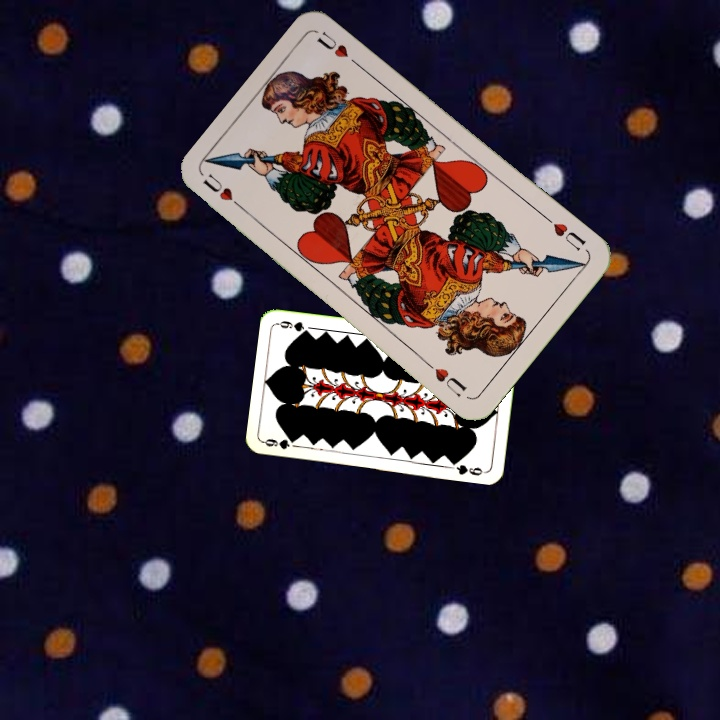G9: (260, 434, 298, 452)
HU: (199, 169, 249, 214), (540, 212, 589, 254)
